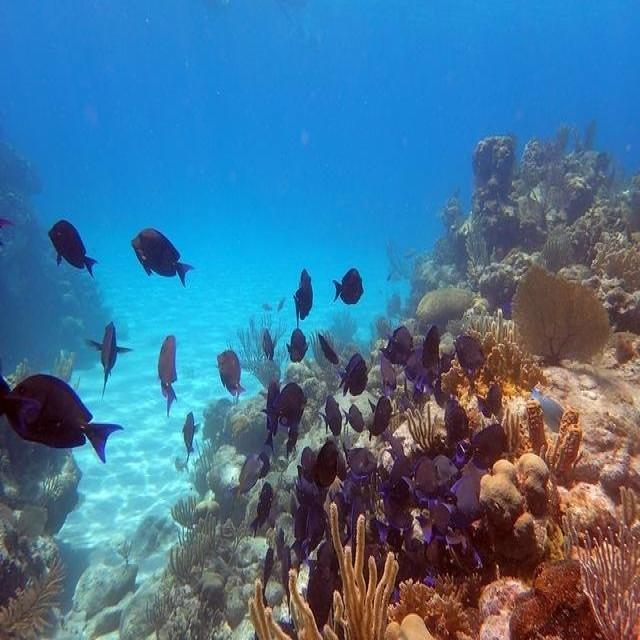aquatic plants: (250, 503, 398, 639), (512, 265, 608, 360), (581, 526, 639, 639)
fish: (2, 374, 123, 458), (85, 322, 132, 398), (133, 229, 193, 285), (49, 222, 101, 277), (461, 425, 507, 466), (157, 335, 178, 416), (364, 395, 400, 441), (218, 350, 247, 398), (307, 442, 337, 488), (229, 457, 264, 496), (269, 382, 306, 418), (302, 503, 329, 551), (403, 455, 438, 491), (341, 354, 369, 397), (381, 327, 413, 364), (251, 484, 274, 534), (334, 269, 365, 306), (295, 270, 314, 328), (454, 337, 486, 365), (182, 413, 200, 458), (286, 329, 309, 363), (320, 397, 341, 434), (435, 456, 457, 486)
